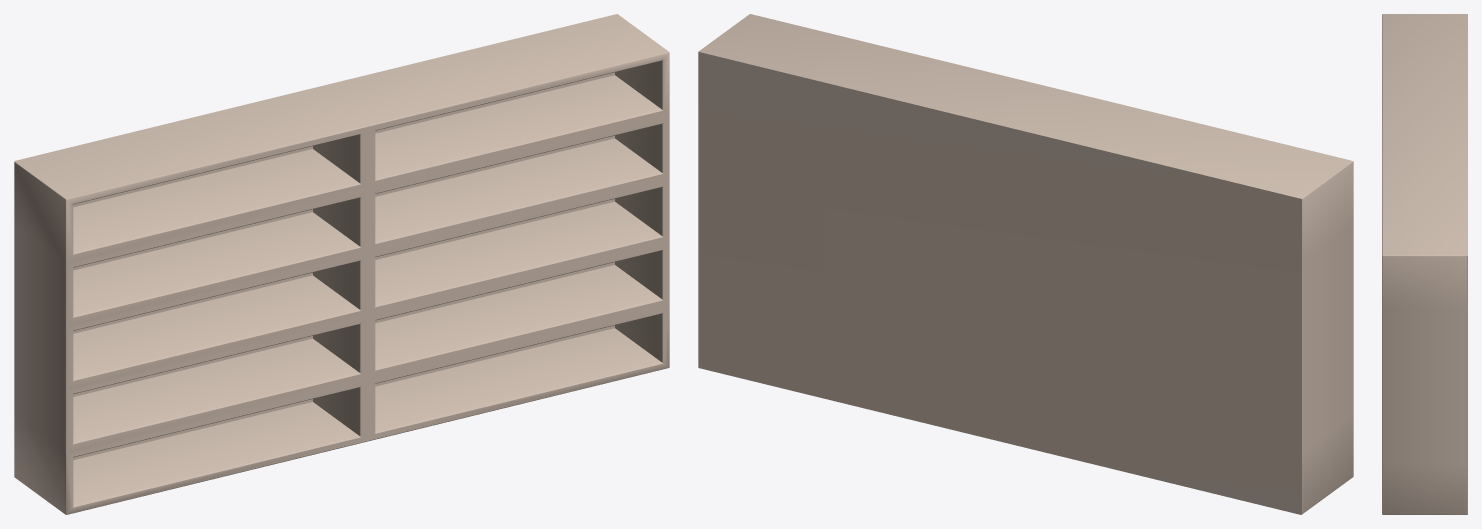
Rendered from prop_thread_boockshelf.fbx.
The picture shows the model from 3 angles, left to right: view 1: azimuth 30°, elevation 25°; view 2: azimuth 150°, elevation 25°; view 3: azimuth 270°, elevation 25°; orthographic projection. The views are drawn at different scales.
Parts seen in each view (by area): view 1: Estanteria hilos; view 2: Estanteria hilos; view 3: Estanteria hilos.
Boxes of the visible parts, x1=… form: Estanteria hilos: x1=14, y1=14, x2=669, y2=514; Estanteria hilos: x1=698, y1=14, x2=1353, y2=514; Estanteria hilos: x1=1382, y1=14, x2=1467, y2=514.
Bounding box in the file's own units: 200 × 100 × 30.
Materials: 1 (1 with a texture image).
